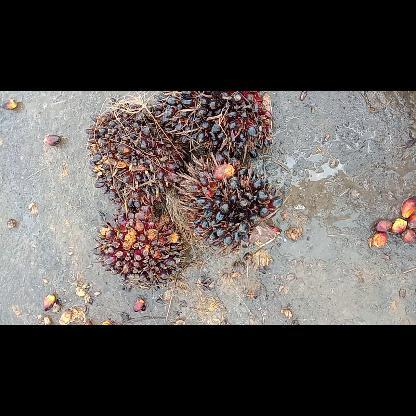TBS abnormal: (168, 150, 284, 250), (150, 91, 278, 163)
TBS masak: (84, 95, 196, 211), (92, 201, 188, 291)
